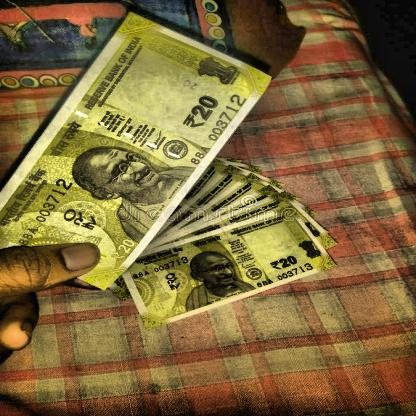Rs20: (175, 88, 228, 136), (266, 252, 306, 277)
